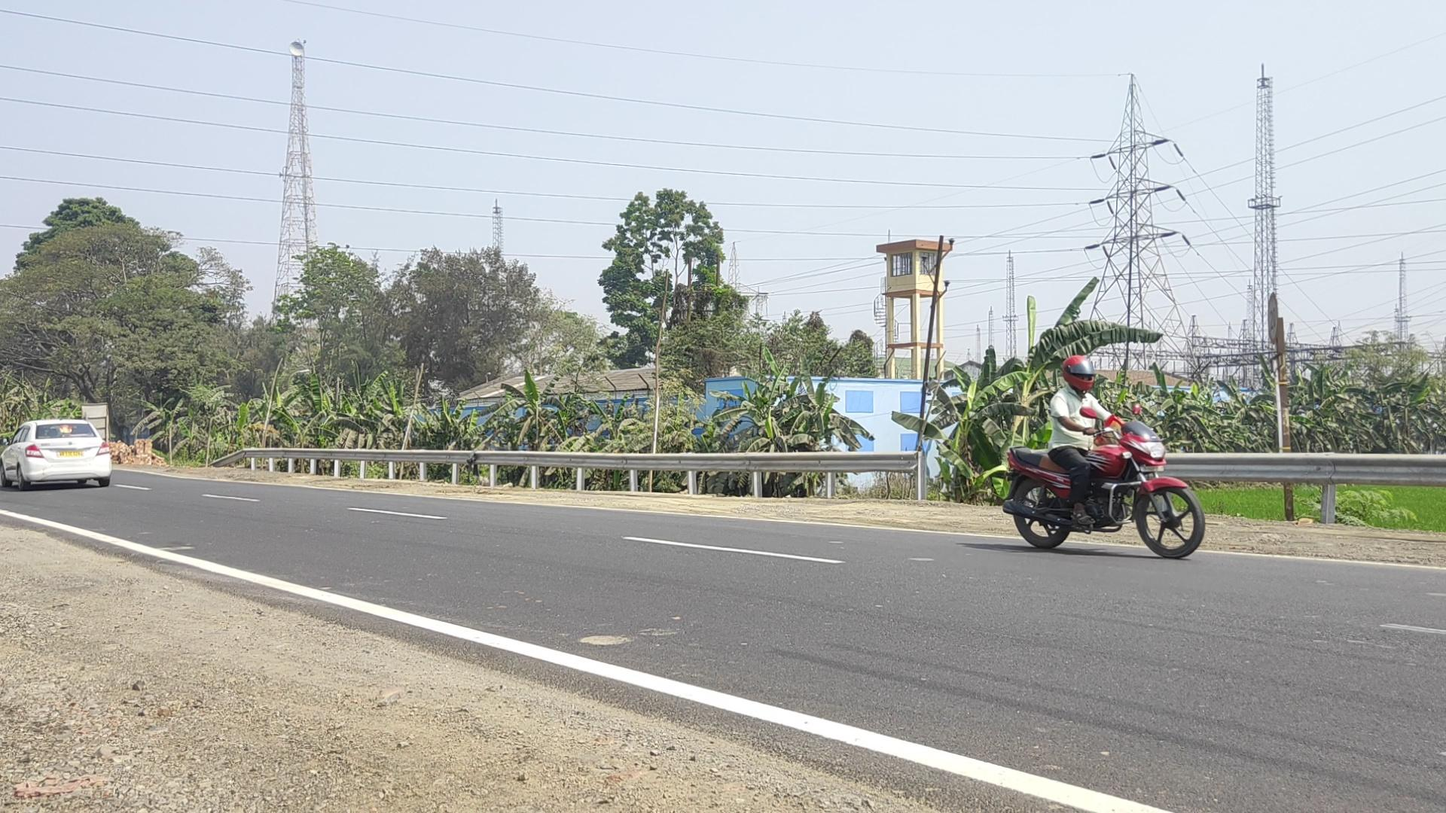bike: (1003, 355, 1206, 559)
car: (1, 419, 112, 492)
